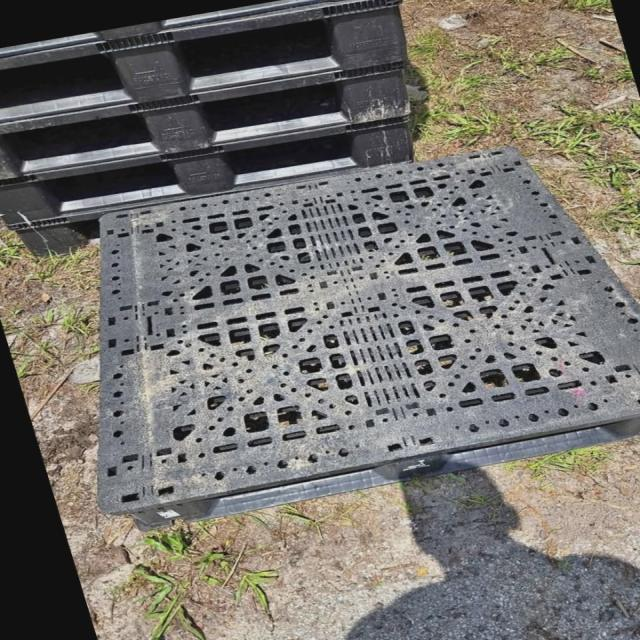non-igps: (81, 143, 639, 538), (0, 106, 441, 240), (0, 59, 432, 189), (0, 0, 425, 129), (0, 0, 421, 81), (0, 207, 139, 265)
